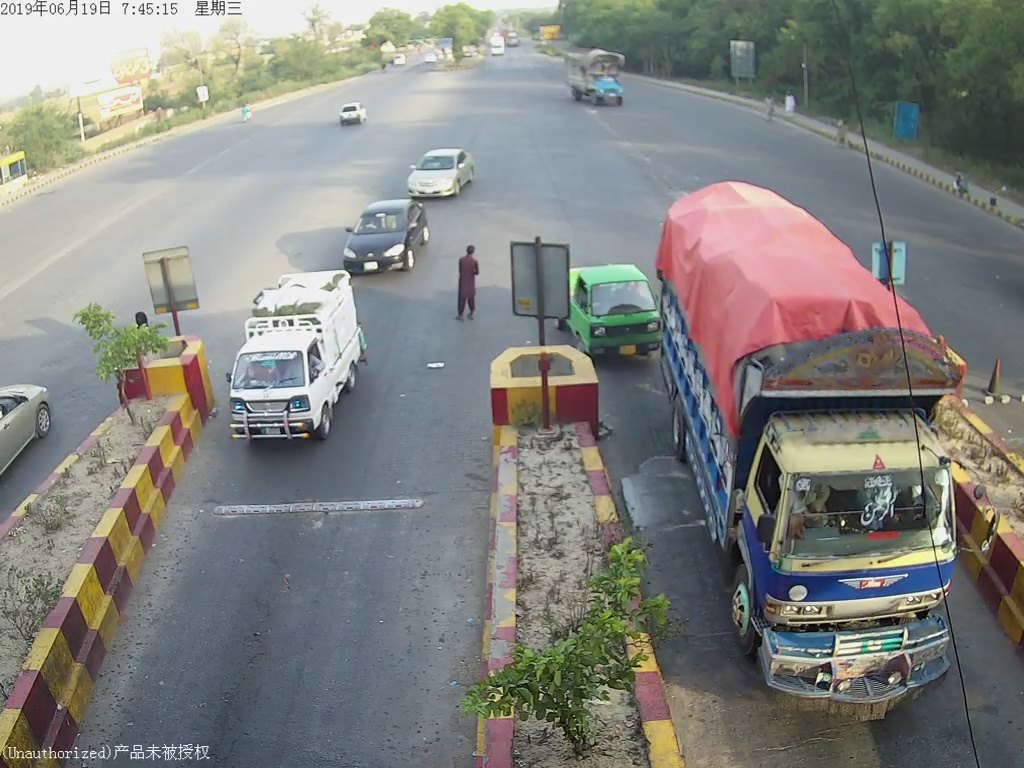Cat-1: (226, 271, 367, 446), (577, 256, 656, 358), (339, 193, 428, 275), (404, 141, 467, 202)
Cat-4: (654, 184, 960, 708)
